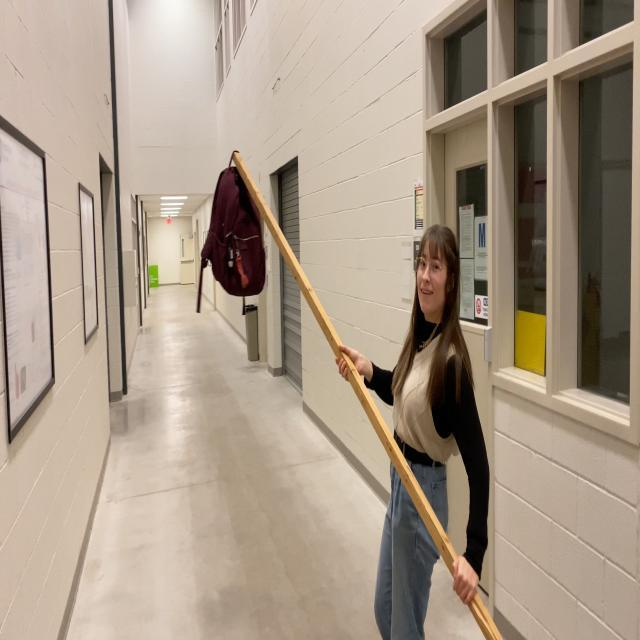Backpacks: (204, 168, 266, 298)
